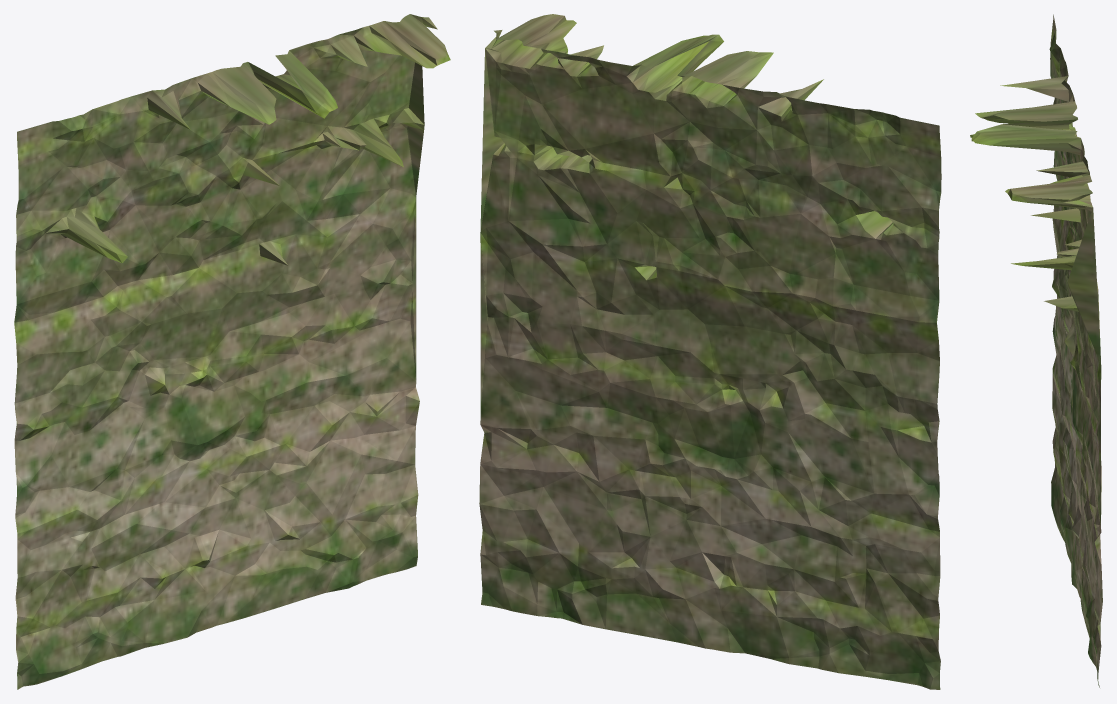
File: map_130_100.obj
3 views of the same model, side by side, from view 1: azimuth 30°, elevation 25°; view 2: azimuth 150°, elevation 25°; view 3: azimuth 270°, elevation 25° (orthographic). The views are drawn at different scales.
Visible parts, largest first — view 1: grp1; view 2: grp1; view 3: grp1.
Boxes of the visible parts, box(x1,y1,x2,y2) form: grp1: box(14, 14, 450, 689); grp1: box(479, 14, 941, 689); grp1: box(970, 14, 1102, 687).
Bounding box in the file's own units: 8 × 10 × 2.45.
1 material, 1 textured.
